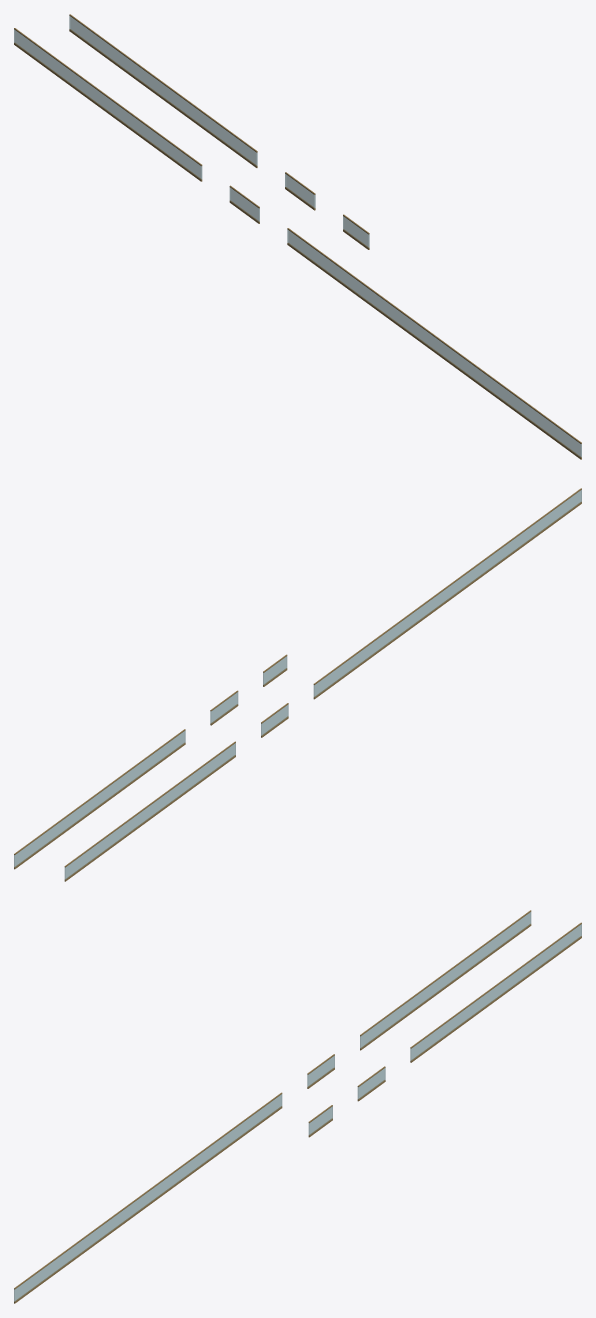
The model's file is D04_PORT_FORWARD_HOME_GUARDS_r001.glb.
3 views of the same model, one above another, from view 1: azimuth 30°, elevation 25°; view 2: azimuth 150°, elevation 25°; view 3: azimuth 330°, elevation 25° (orthographic). The views are drawn at different scales.
Visible parts, largest first — view 1: D04H_GuardSuccessor_D04PF_UpperGuard_17_2, D04H_GuardSuccessor_D04PF_UpperGuard_15_0, D04H_GuardSuccessor_D04PF_UpperGuard_17_0, D04H_GuardSuccessor_D04PF_UpperGuard_17_Base_2, D04H_GuardSuccessor_D04PF_UpperGuard_17_Cap_2, D04H_GuardSuccessor_D04PF_UpperGuard_15_Base_0, D04H_GuardSuccessor_D04PF_UpperGuard_17_Base_0; view 2: D04H_GuardSuccessor_D04PF_UpperGuard_17_2, D04H_GuardSuccessor_D04PF_UpperGuard_15_0, D04H_GuardSuccessor_D04PF_UpperGuard_17_0, D04H_GuardSuccessor_D04PF_UpperGuard_17_Base_2, D04H_GuardSuccessor_D04PF_UpperGuard_17_Cap_2, D04H_GuardSuccessor_D04PF_UpperGuard_15_Base_0, D04H_GuardSuccessor_D04PF_UpperGuard_17_Base_0; view 3: D04H_GuardSuccessor_D04PF_UpperGuard_17_2, D04H_GuardSuccessor_D04PF_UpperGuard_17_0, D04H_GuardSuccessor_D04PF_UpperGuard_15_0, D04H_GuardSuccessor_D04PF_UpperGuard_17_Base_2, D04H_GuardSuccessor_D04PF_UpperGuard_17_Cap_2, D04H_GuardSuccessor_D04PF_UpperGuard_15_Base_0, D04H_GuardSuccessor_D04PF_UpperGuard_17_Base_0.
Part boxes in pixels (left/top/right/bottom): D04H_GuardSuccessor_D04PF_UpperGuard_17_2: left=287, top=229, right=581, bottom=457; D04H_GuardSuccessor_D04PF_UpperGuard_15_0: left=69, top=16, right=257, bottom=165; D04H_GuardSuccessor_D04PF_UpperGuard_17_0: left=14, top=29, right=202, bottom=179; D04H_GuardSuccessor_D04PF_UpperGuard_17_Base_2: left=287, top=243, right=581, bottom=459; D04H_GuardSuccessor_D04PF_UpperGuard_17_Cap_2: left=287, top=228, right=581, bottom=443; D04H_GuardSuccessor_D04PF_UpperGuard_15_Base_0: left=69, top=29, right=257, bottom=167; D04H_GuardSuccessor_D04PF_UpperGuard_17_Base_0: left=14, top=42, right=202, bottom=181; D04H_GuardSuccessor_D04PF_UpperGuard_17_2: left=313, top=490, right=581, bottom=697; D04H_GuardSuccessor_D04PF_UpperGuard_15_0: left=14, top=730, right=185, bottom=867; D04H_GuardSuccessor_D04PF_UpperGuard_17_0: left=64, top=743, right=235, bottom=879; D04H_GuardSuccessor_D04PF_UpperGuard_17_Base_2: left=313, top=502, right=581, bottom=699; D04H_GuardSuccessor_D04PF_UpperGuard_17_Cap_2: left=313, top=488, right=581, bottom=684; D04H_GuardSuccessor_D04PF_UpperGuard_15_Base_0: left=14, top=742, right=185, bottom=869; D04H_GuardSuccessor_D04PF_UpperGuard_17_Base_0: left=64, top=755, right=235, bottom=881; D04H_GuardSuccessor_D04PF_UpperGuard_17_2: left=14, top=1094, right=282, bottom=1301; D04H_GuardSuccessor_D04PF_UpperGuard_17_0: left=360, top=912, right=531, bottom=1048; D04H_GuardSuccessor_D04PF_UpperGuard_15_0: left=410, top=924, right=581, bottom=1060; D04H_GuardSuccessor_D04PF_UpperGuard_17_Base_2: left=14, top=1106, right=282, bottom=1303; D04H_GuardSuccessor_D04PF_UpperGuard_17_Cap_2: left=14, top=1092, right=282, bottom=1289; D04H_GuardSuccessor_D04PF_UpperGuard_15_Base_0: left=410, top=936, right=581, bottom=1062; D04H_GuardSuccessor_D04PF_UpperGuard_17_Base_0: left=360, top=924, right=531, bottom=1050.
Bounding box in the file's own units: 4.18 × 1.18 × 72.6.
2 materials, 1 textured.
